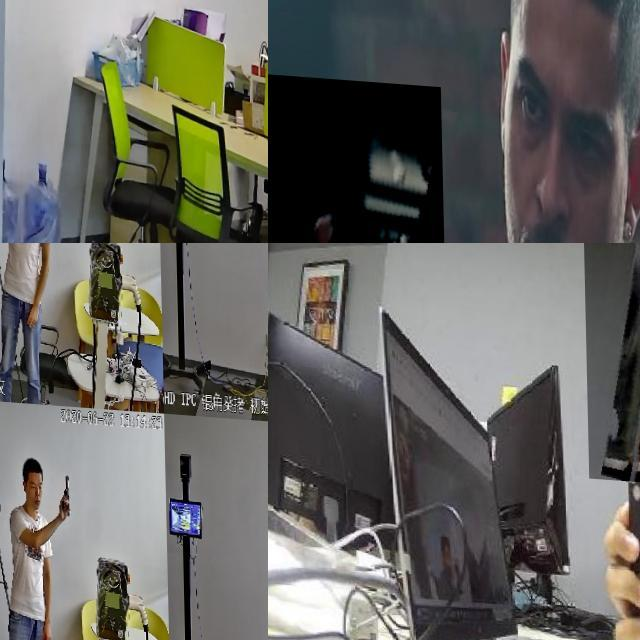-: (582, 243, 640, 478)
gun-knife-thesis - v11 Yolov5 augmented: (268, 71, 446, 243), (0, 0, 28, 81), (54, 466, 68, 516), (0, 243, 10, 267)
